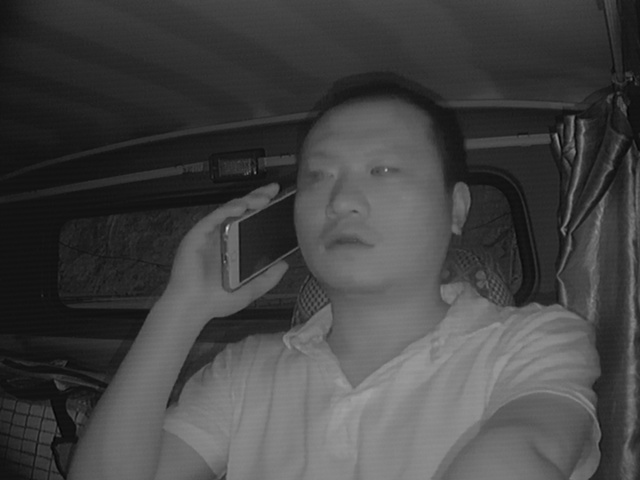hand: (166, 187, 286, 320)
